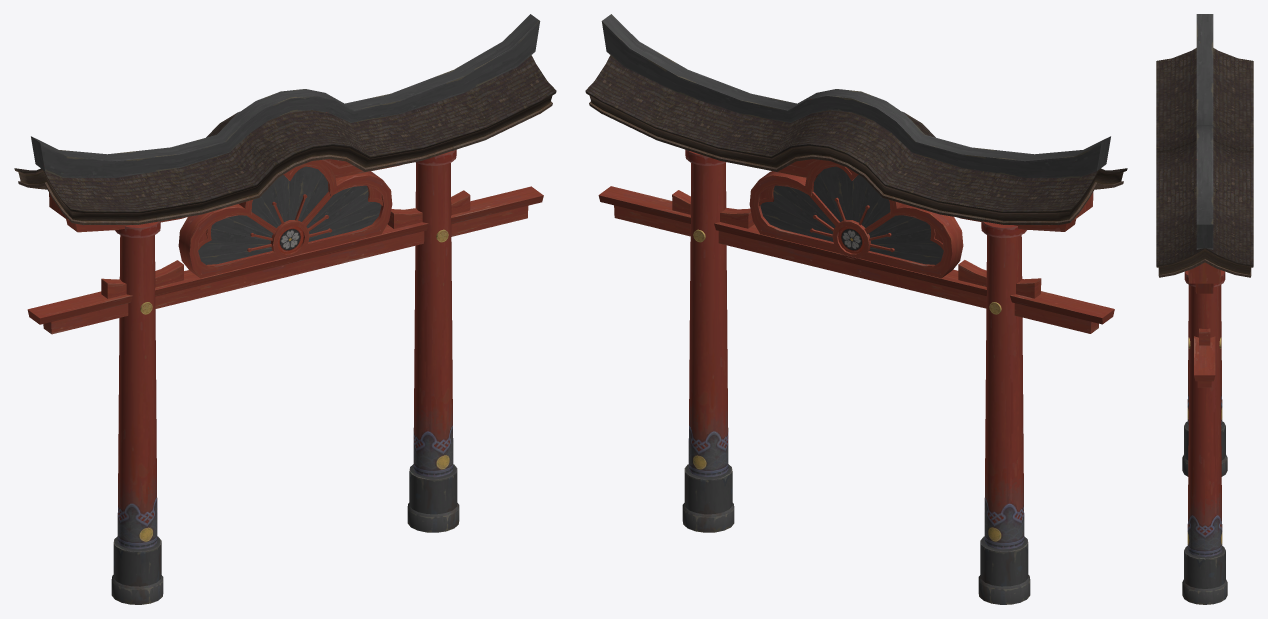
The model's file is Homeworld_Exterior_Dq_Build_Torii_10_Lod0.fbx.
3 renders of one model, left to right at view 1: azimuth 30°, elevation 25°; view 2: azimuth 150°, elevation 25°; view 3: azimuth 270°, elevation 25°, orthographic. The views are drawn at different scales.
Parts seen in each view (by area): view 1: Area_Dq_Build_MS_ShenShe_06_Lod0; view 2: Area_Dq_Build_MS_ShenShe_06_Lod0; view 3: Area_Dq_Build_MS_ShenShe_06_Lod0.
Boxes of the visible parts, bbox=[...] form: Area_Dq_Build_MS_ShenShe_06_Lod0: bbox=[14, 14, 556, 604]; Area_Dq_Build_MS_ShenShe_06_Lod0: bbox=[585, 14, 1127, 604]; Area_Dq_Build_MS_ShenShe_06_Lod0: bbox=[1156, 14, 1253, 604].
Bounding box in the file's own units: 9.03 × 8.21 × 1.75.
